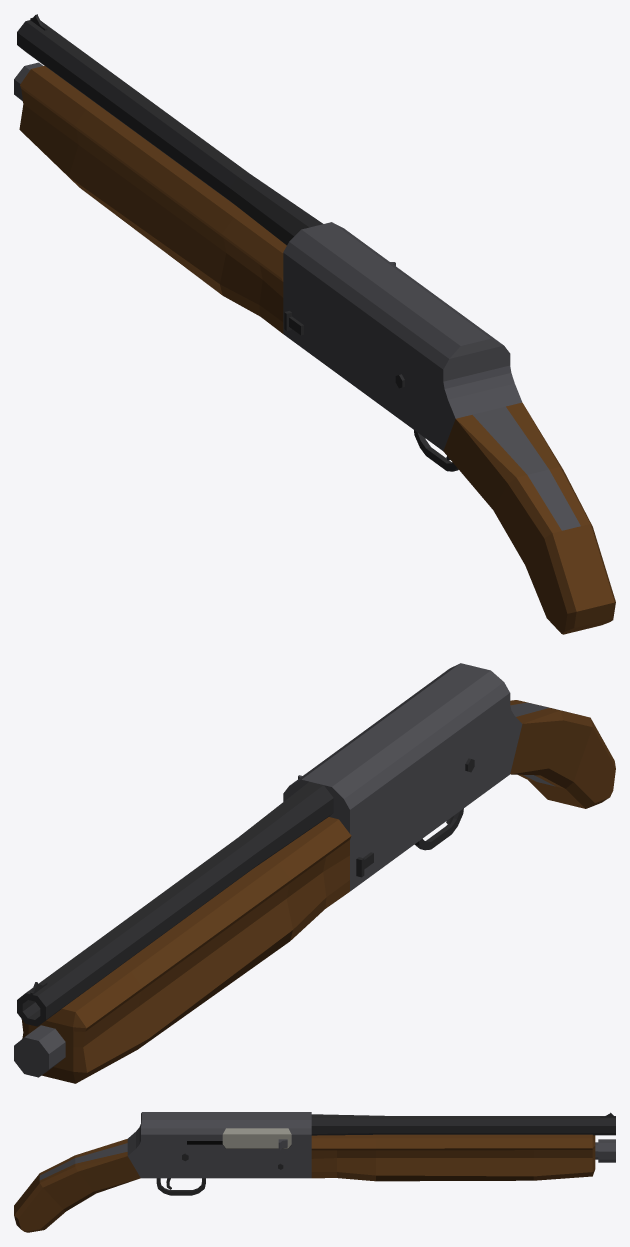
Rendered from Auto5-S.fbx.
The picture shows the model from 3 angles, top to bottom: view 1: azimuth 30°, elevation 25°; view 2: azimuth 150°, elevation 25°; view 3: azimuth 270°, elevation 25°; orthographic projection. The views are drawn at different scales.
Visible parts, largest first — view 1: Receiver, Forearm, Grip, Barrel, Tang; view 2: Forearm, Receiver, Barrel, Grip, Mag Tube, Trigger Guard; view 3: Forearm, Receiver, Barrel, Grip, Bolt, Tang, Mag Tube, Trigger Guard, Receiver Inside.
Part boxes in pixels (x1,y1,x2,y2): Receiver: (283, 222, 522, 450); Forearm: (19, 65, 286, 333); Grip: (443, 402, 615, 634); Barrel: (17, 20, 322, 245); Tang: (472, 406, 580, 530); Forearm: (21, 817, 351, 1083); Receiver: (283, 663, 522, 891); Barrel: (17, 781, 333, 1026); Grip: (510, 700, 615, 808); Mag Tube: (14, 1025, 65, 1077); Trigger Guard: (414, 808, 463, 850); Forearm: (311, 1134, 595, 1181); Receiver: (127, 1112, 311, 1178); Barrel: (311, 1114, 615, 1135); Grip: (14, 1139, 140, 1232); Bolt: (222, 1128, 291, 1148); Tang: (39, 1143, 127, 1180); Mag Tube: (595, 1139, 615, 1162); Trigger Guard: (156, 1178, 205, 1195); Receiver Inside: (187, 1141, 290, 1148).
Size of the model in its own units: 0.0661 by 0.1542 by 0.731.
